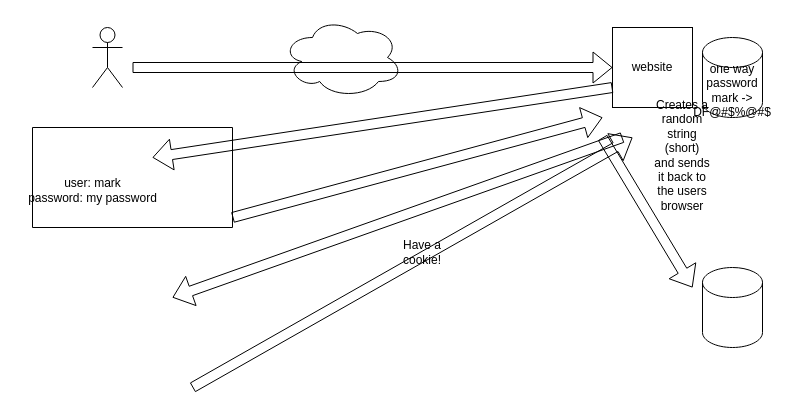
This 788x410 diagram has some shape labels left out. The shapes that lost their labels are listed below. From the top down, each one's centre as x and y in pixels, then its label:
At point 107,57: "mark - a regular user".
At point 732,307: "cookie database".
